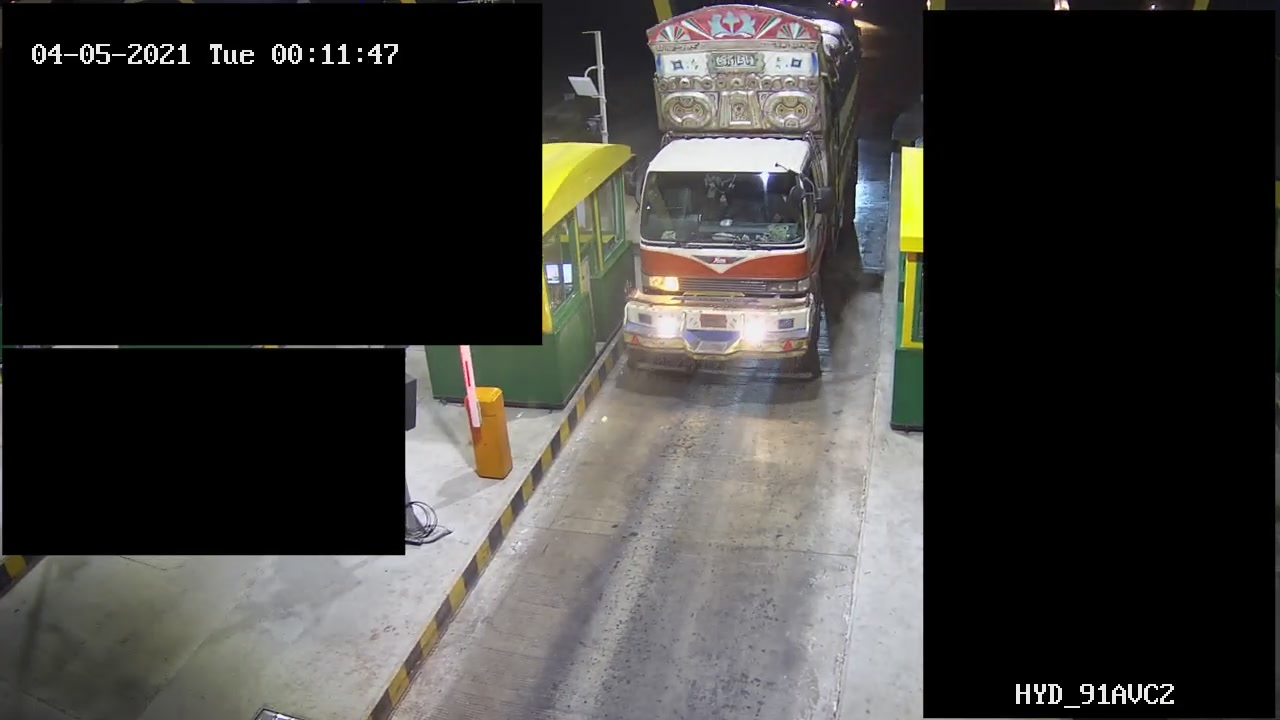F5: (612, 1, 877, 382)
